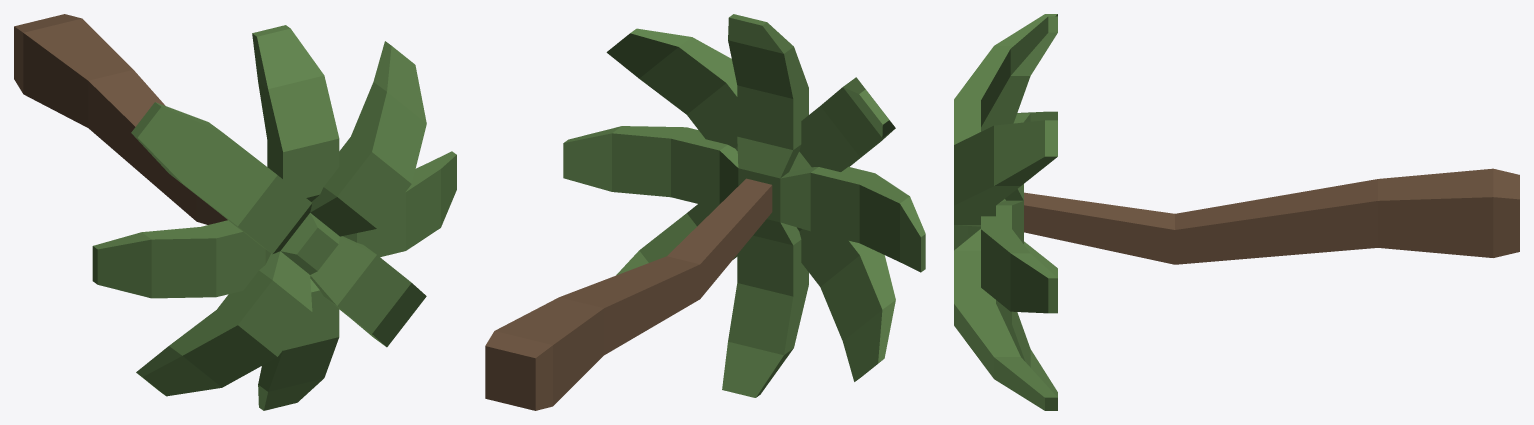
The model's file is tree-model-palm-detailed-40-ft.obj.
3 renders of one model, left to right at view 1: azimuth 30°, elevation 25°; view 2: azimuth 150°, elevation 25°; view 3: azimuth 270°, elevation 25°, orthographic.
Visible parts, largest first — view 1: tree-model-palm-detailed-40-ft; view 2: tree-model-palm-detailed-40-ft; view 3: tree-model-palm-detailed-40-ft.
Part boxes in pixels (x1=…): tree-model-palm-detailed-40-ft: x1=14, y1=14, x2=456, y2=410; tree-model-palm-detailed-40-ft: x1=485, y1=14, x2=925, y2=410; tree-model-palm-detailed-40-ft: x1=954, y1=14, x2=1519, y2=410.
Bounding box in the file's own units: 349 × 349 × 480.
